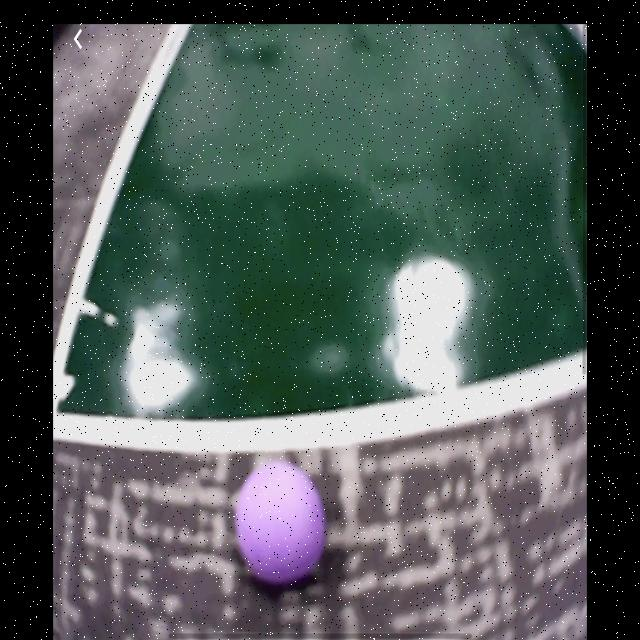ball: (234, 459, 328, 588)
